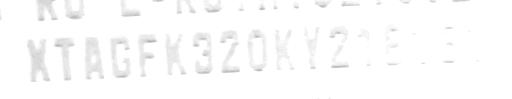letter: (378, 18, 410, 67), (270, 25, 300, 72), (162, 28, 188, 81), (434, 18, 462, 67), (80, 33, 108, 82), (188, 27, 214, 78), (52, 32, 78, 83), (298, 22, 326, 69), (243, 27, 271, 74), (216, 27, 242, 76), (134, 30, 160, 79), (109, 31, 133, 82), (464, 13, 486, 66), (327, 25, 353, 68), (28, 35, 50, 84), (410, 17, 432, 64), (354, 22, 376, 69)
